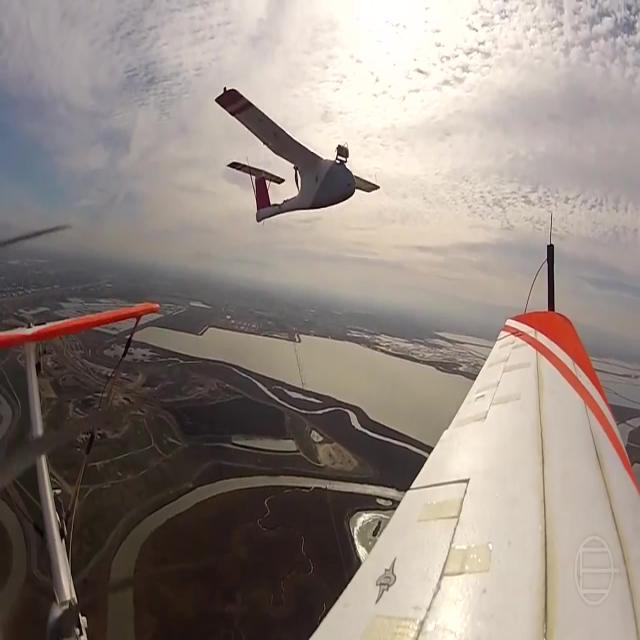iha: (214, 88, 380, 220)
